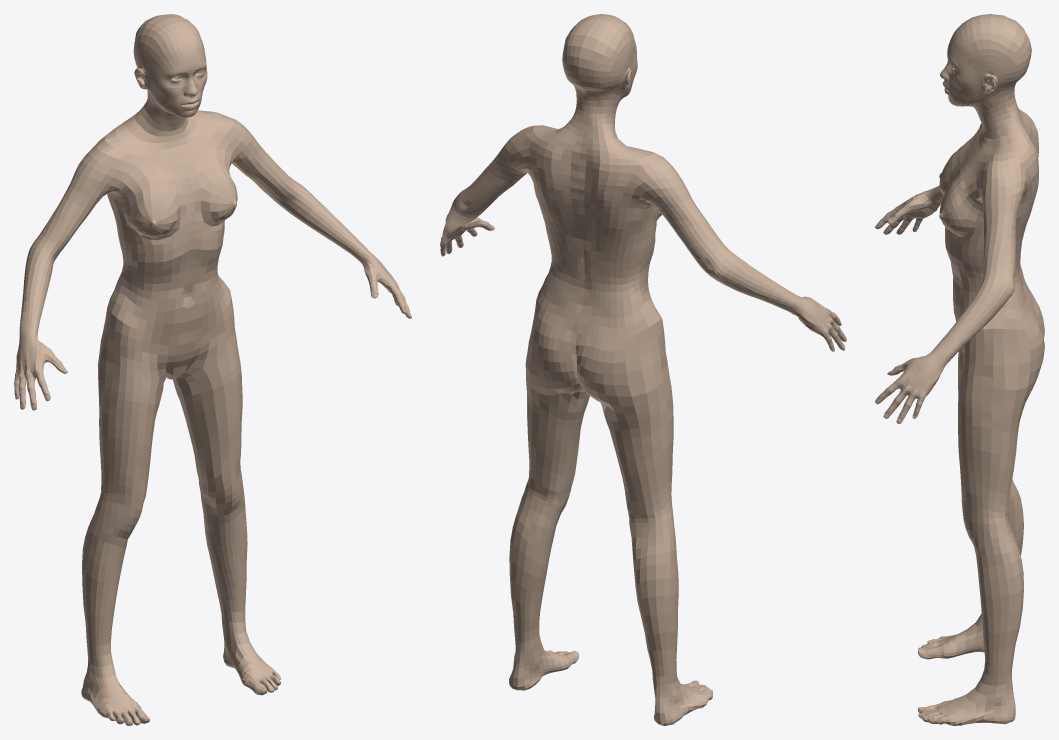
Rendered from body-female.glb.
3 views of the same model, side by side, from view 1: azimuth 30°, elevation 25°; view 2: azimuth 150°, elevation 25°; view 3: azimuth 270°, elevation 25° (orthographic). The views are drawn at different scales.
Visible parts, largest first — view 1: lean female; view 2: lean female; view 3: lean female.
Part boxes in pixels (x1,y1,x2,y2): lean female: [14, 14, 411, 725]; lean female: [440, 14, 846, 725]; lean female: [875, 14, 1044, 725].
Size of the model in its own units: 9.71 by 15.91 by 3.66.
